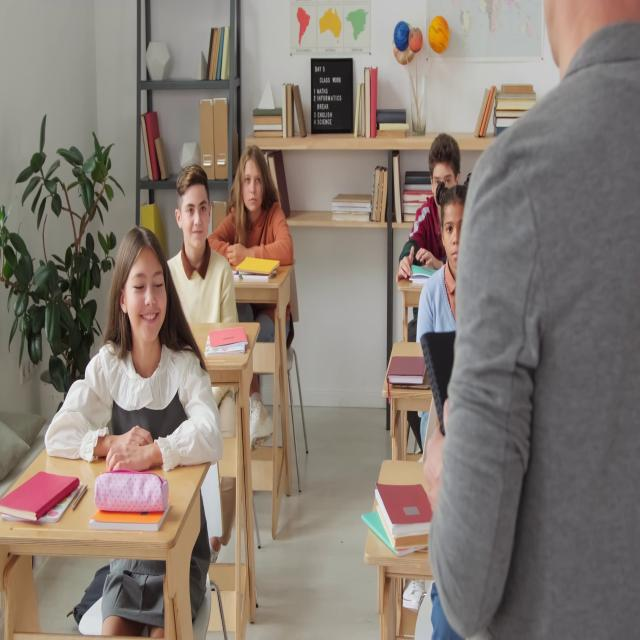listening: (44, 227, 225, 633), (212, 146, 294, 448), (168, 162, 242, 422), (415, 188, 461, 464), (395, 133, 460, 279)
